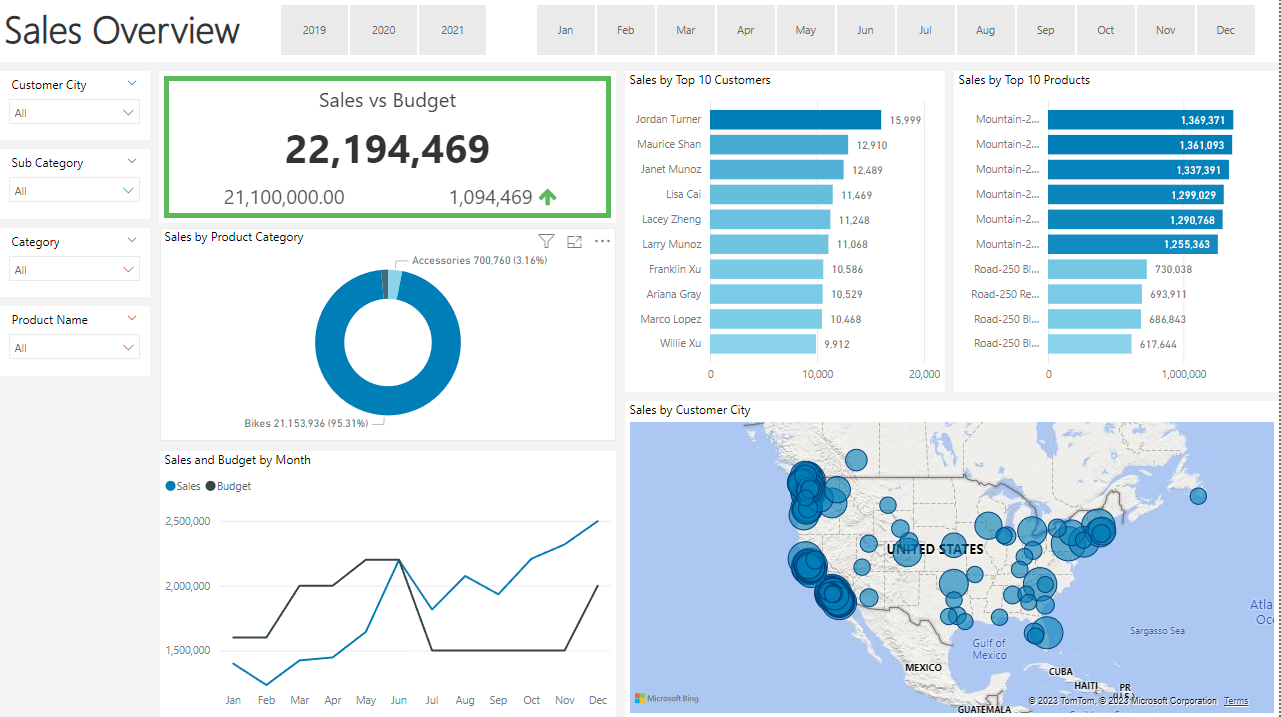

Layout of this report page (visuals, bound fields, positions):
{"tool":"powerbi","page":{"name":"Sales Overview","canvas":[1280,720],"ordinal":0},"visuals":[{"type":"textbox","box":[0,0,1280,64],"z":0},{"type":"slicer","fields":{"Values":["DIM_Calendar.Year"]},"box":[256,0,256,64],"z":1000},{"type":"slicer","fields":{"Values":["DIM_Calendar.MonthShort"]},"box":[512,0,768,64],"z":2000},{"type":"slicer","fields":{"Values":["DIM_Customers.Customer City"]},"box":[0,73,150.5,69.3],"z":3000},{"type":"slicer","fields":{"Values":["DIM_Products.Product Category"]},"box":[0,229.9,150.5,69.3],"z":4000},{"type":"slicer","fields":{"Values":["DIM_Products.Product Name"]},"box":[0,308.4,150.5,69.3],"z":5000},{"type":"slicer","fields":{"Values":["DIM_Products.Sub Category"]},"box":[0,151.4,150.5,69.3],"z":6000},{"type":"barChart","title":"Sales by Top 10 Products","fields":{"Category":["DIM_Products.Product Name"],"Y":["Analysis Metrics.Sales"]},"box":[955.2,73,324.8,321.1],"z":7000},{"type":"lineChart","fields":{"Category":["DIM_Calendar.MonthShort"],"Y":["Analysis Metrics.Sales","Analysis Metrics.Budget"]},"box":[160.7,452.8,456.3,267.2],"z":8000},{"type":"barChart","title":"Sales by Top 10 Customers","fields":{"Category":["DIM_Customers.Full Name"],"Y":["Analysis Metrics.Sales"]},"box":[625.9,73,320.2,321.1],"z":9000},{"type":"donutChart","fields":{"Y":["Analysis Metrics.Sales"],"Series":["DIM_Products.Product Category"]},"box":[160.6,229.9,456.2,213.5],"z":10000},{"type":"map","fields":{"Category":["DIM_Customers.Customer City"],"Size":["Analysis Metrics.Sales"]},"box":[625.9,403.3,654.1,316.6],"z":12000},{"type":"BBED0A4D4D8D44CE93CF2DAFADEE466C","fields":{"actual":["Analysis Metrics.Sales"],"target2":["Analysis Metrics.Sales / Budget"],"target1":["Analysis Metrics.Budget"]},"box":[160.5,73.4,456.6,151.3],"z":13001}]}

Visuals, with their boxes in screenshot pixels (x1, y1, x2, y2), scaled from the page's 1280x720 canvas onto the 1281x717 screenshot:
textbox: [x1=0, y1=0, x2=1280, y2=64]
slicer - DIM_Calendar.Year: [x1=256, y1=0, x2=512, y2=64]
slicer - DIM_Calendar.MonthShort: [x1=512, y1=0, x2=1280, y2=64]
slicer - DIM_Customers.Customer City: [x1=0, y1=73, x2=151, y2=142]
slicer - DIM_Products.Product Category: [x1=0, y1=229, x2=151, y2=298]
slicer - DIM_Products.Product Name: [x1=0, y1=307, x2=151, y2=376]
slicer - DIM_Products.Sub Category: [x1=0, y1=151, x2=151, y2=220]
"Sales by Top 10 Products" barChart: [x1=956, y1=73, x2=1280, y2=392]
lineChart - DIM_Calendar.MonthShort x Analysis Metrics.Sales: [x1=161, y1=451, x2=617, y2=716]
"Sales by Top 10 Customers" barChart: [x1=626, y1=73, x2=947, y2=392]
donutChart - Analysis Metrics.Sales x DIM_Products.Product Category: [x1=161, y1=229, x2=617, y2=442]
map - DIM_Customers.Customer City x Analysis Metrics.Sales: [x1=626, y1=402, x2=1280, y2=716]
BBED0A4D4D8D44CE93CF2DAFADEE466C - Analysis Metrics.Sales x Analysis Metrics.Sales / Budget: [x1=161, y1=73, x2=618, y2=224]
